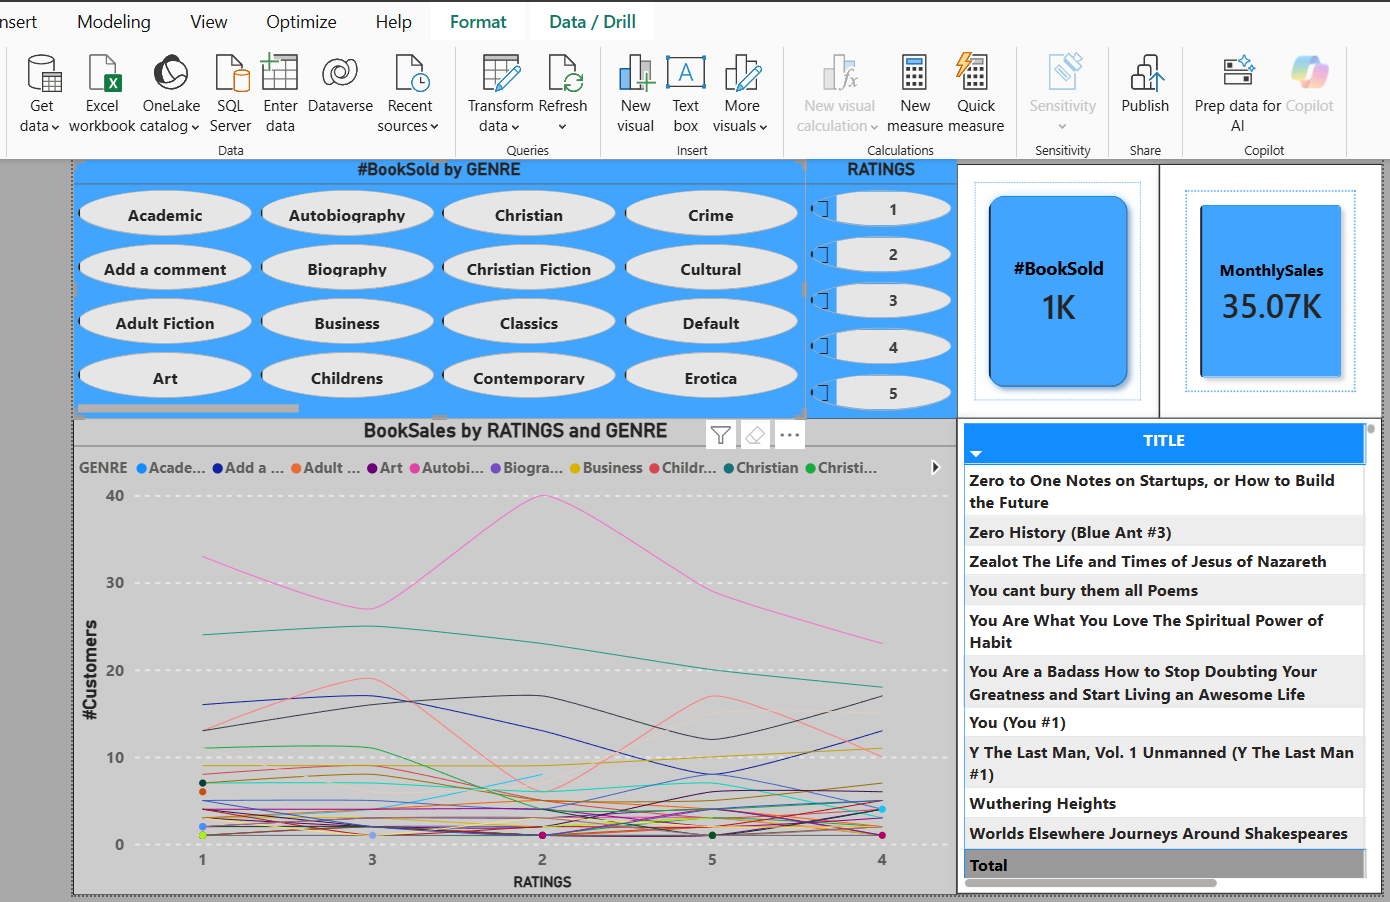

Layout of this report page (visuals, bound fields, positions):
{"tool":"powerbi","page":{"name":"DashBoard1","canvas":[1280,720],"ordinal":0},"visuals":[{"type":"cardVisual","fields":{"Data":["BOOK_STORE.BookCount"]},"box":[864.5,4.9,198.1,249.5],"z":0},{"type":"cardVisual","fields":{"Data":["BOOK_STORE.TotalBookSales"]},"box":[1062.6,4.9,218,249.5],"z":1000},{"type":"advancedSlicerVisual","fields":{"Values":["BOOK_STORE.GENRE"],"Label":["BOOK_STORE.#BookSold"]},"box":[0,0,716.6,254.3],"z":2000},{"type":"lineChart","title":"BookSales by RATINGS and GENRE","fields":{"Series":["BOOK_STORE.GENRE"],"Category":["BOOK_STORE.RATINGS"],"Y":["BOOK_STORE.BookCount"]},"box":[0,253.1,864.5,467.1],"z":3000},{"type":"listSlicer","fields":{"Values":["BOOK_STORE.RATINGS"]},"box":[716.3,0,148.2,253.9],"z":4000},{"type":"tableEx","fields":{"Values":["BOOK_STORE.TITLE","BOOK_STORE.#BookSold","BOOK_STORE.GENRE"]},"box":[864.5,253.1,415.8,465.9],"z":5000}]}

Visuals, with their boxes in screenshot pixels (x1, y1, x2, y2):
cardVisual - BOOK_STORE.BookCount: region(955, 157, 1159, 415)
cardVisual - BOOK_STORE.TotalBookSales: region(1159, 157, 1384, 415)
advancedSlicerVisual - BOOK_STORE.GENRE x BOOK_STORE.#BookSold: region(62, 152, 802, 415)
"BookSales by RATINGS and GENRE" lineChart: region(62, 413, 955, 896)
listSlicer - BOOK_STORE.RATINGS: region(801, 152, 955, 414)
tableEx - BOOK_STORE.TITLE x BOOK_STORE.#BookSold: region(955, 413, 1384, 895)
